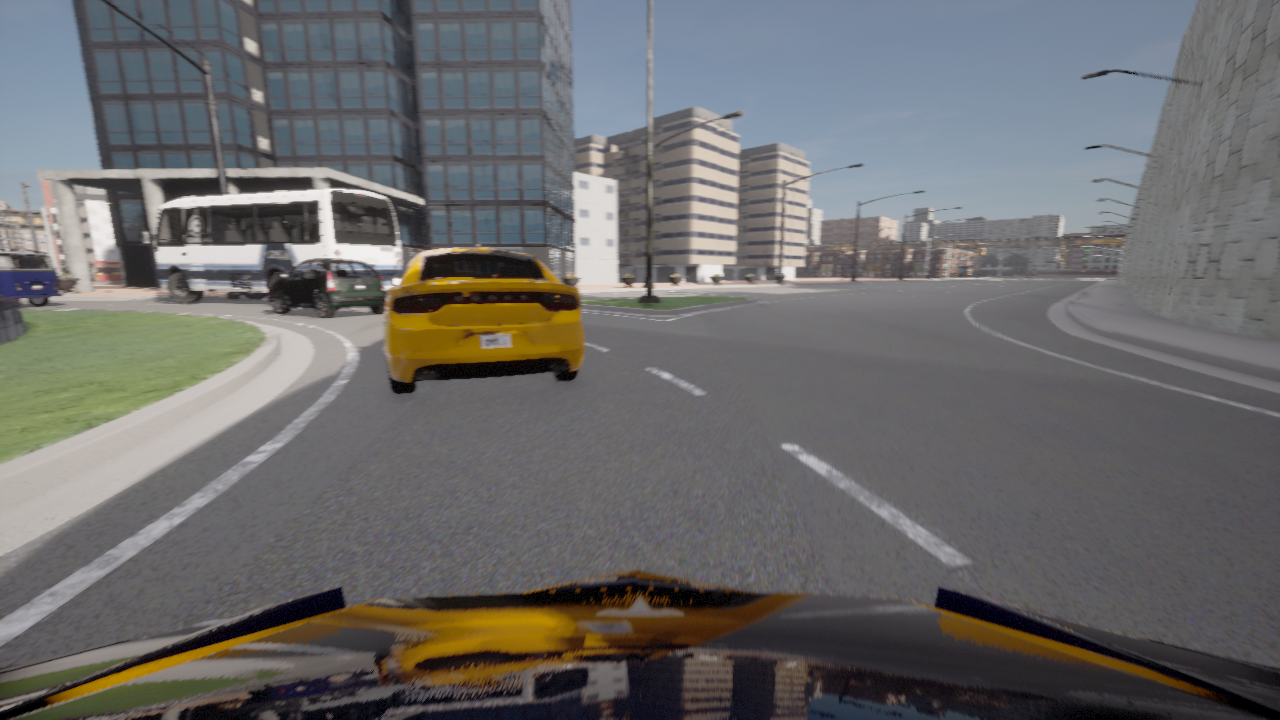cyclist: (0, 569, 1279, 719), (383, 244, 583, 394), (139, 188, 402, 302), (269, 259, 387, 318)
